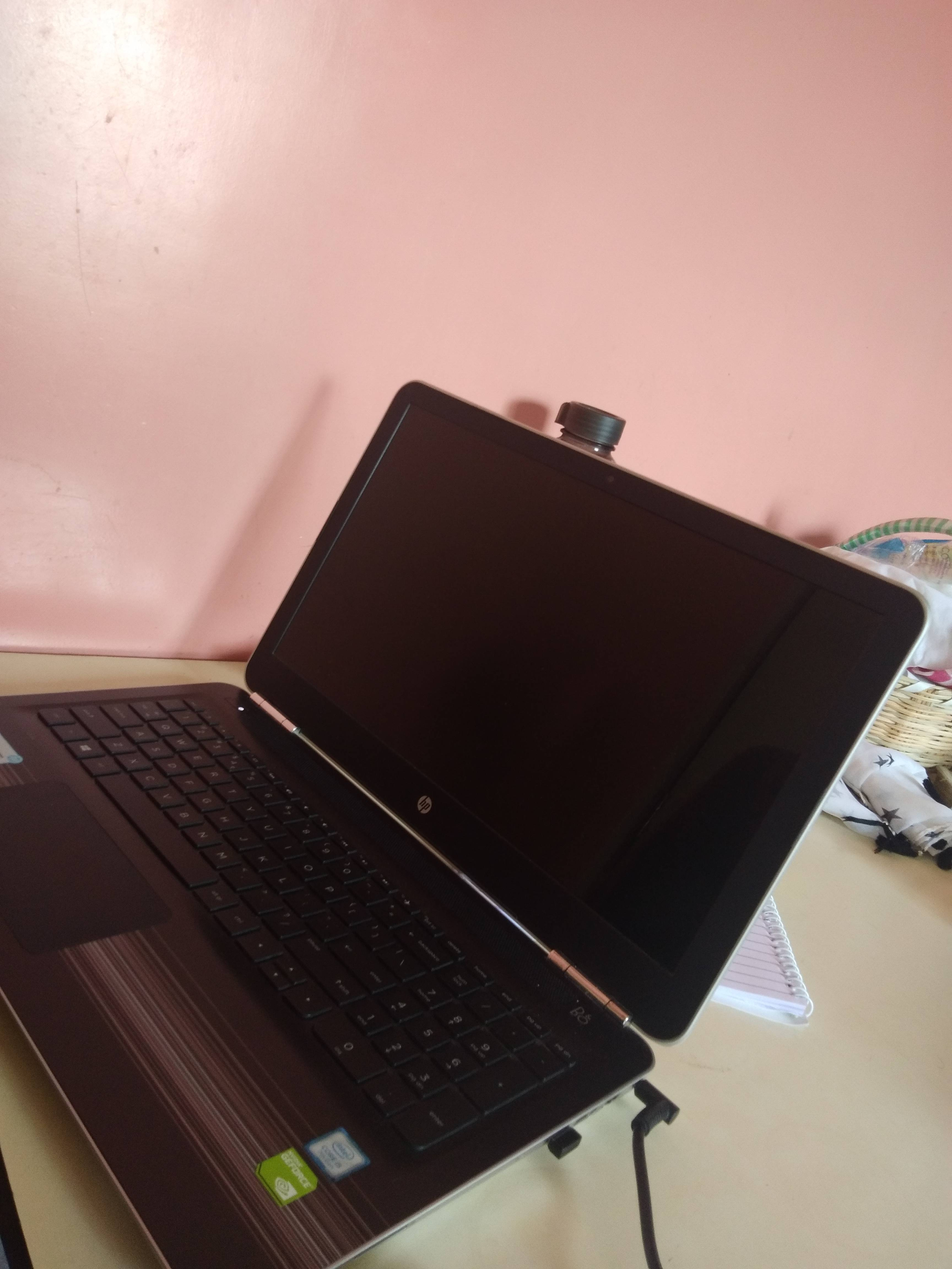Electronics: (0, 366, 940, 1269)
